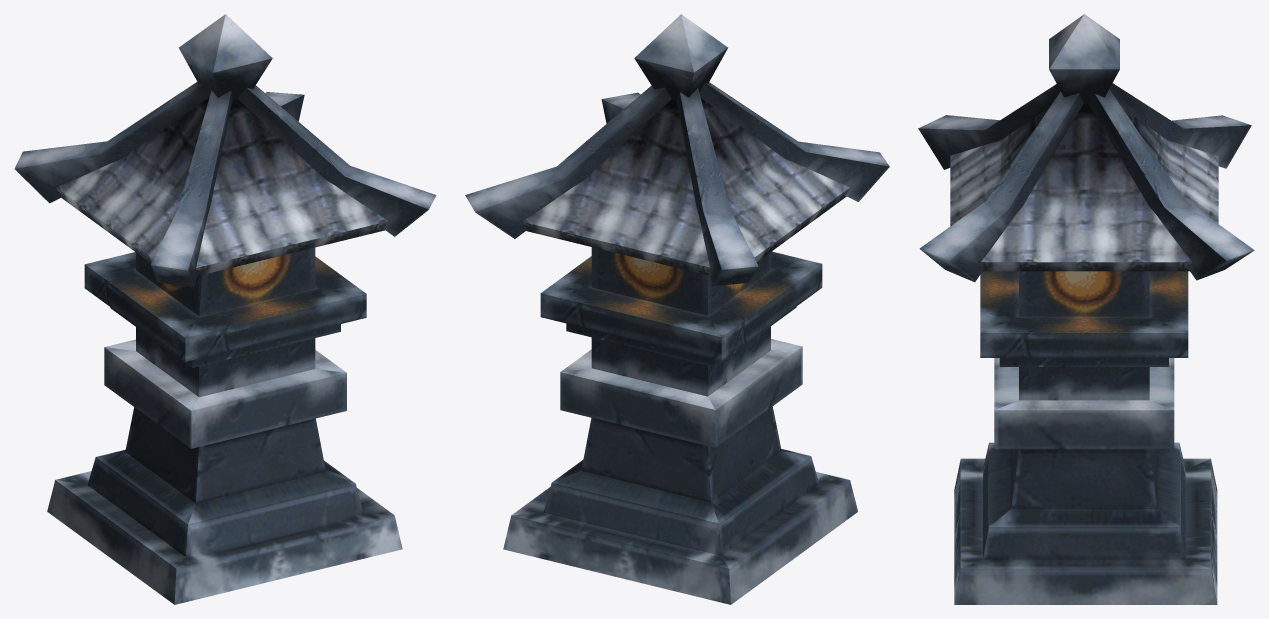
The model's file is Ice_light_tower.FBX.
3 renders of one model, left to right at view 1: azimuth 30°, elevation 25°; view 2: azimuth 150°, elevation 25°; view 3: azimuth 270°, elevation 25°, orthographic. The views are drawn at different scales.
Visible parts, largest first — view 1: Object15716; view 2: Object15716; view 3: Object15716.
Boxes of the visible parts, <box> form: Object15716: <box>14,14,436,604</box>; Object15716: <box>465,14,889,604</box>; Object15716: <box>918,14,1254,604</box>.
Size of the model in its own units: 228 by 385 by 220.
